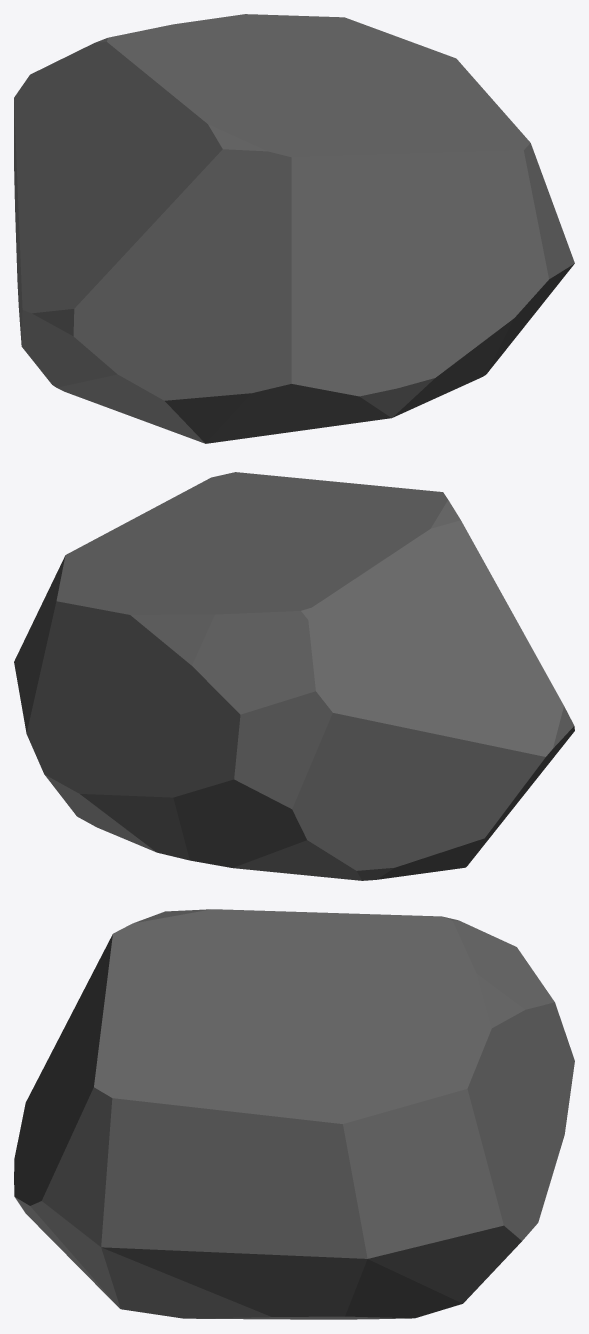
File: Rock1.fbx
3 renders of one model, top to bottom at view 1: azimuth 30°, elevation 25°; view 2: azimuth 150°, elevation 25°; view 3: azimuth 270°, elevation 25°, orthographic. The views are drawn at different scales.
Parts seen in each view (by area): view 1: Cube; view 2: Cube; view 3: Cube.
Boxes of the visible parts, x1=… form: Cube: x1=14, y1=14, x2=574, y2=443; Cube: x1=14, y1=472, x2=574, y2=880; Cube: x1=14, y1=909, x2=574, y2=1319.
Bounding box in the file's own units: 86.75 × 50.81 × 81.17.
